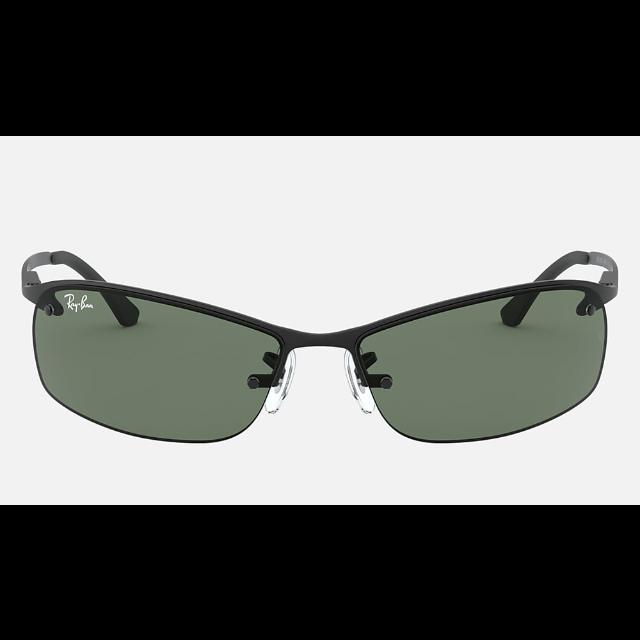Sunglasses: (21, 242, 619, 446)
